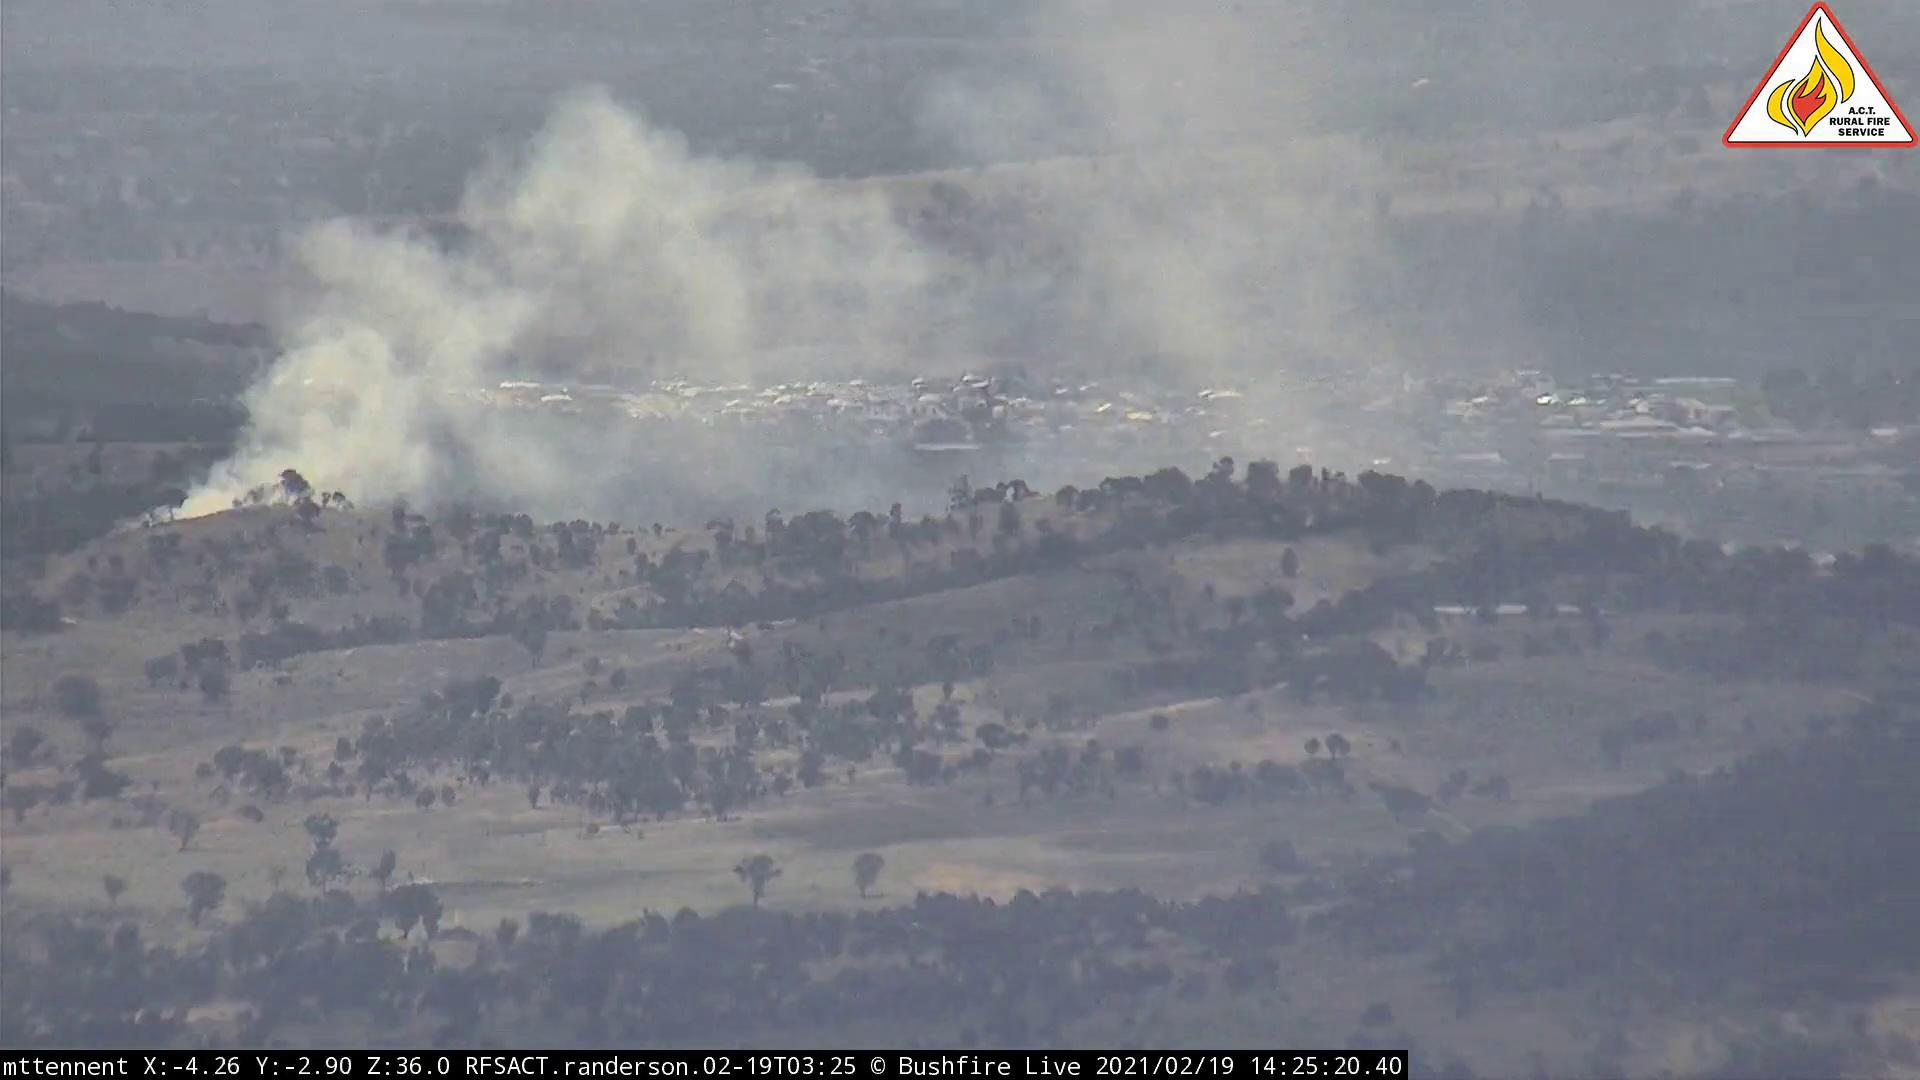instance_salient_object: (116, 80, 1422, 555)
